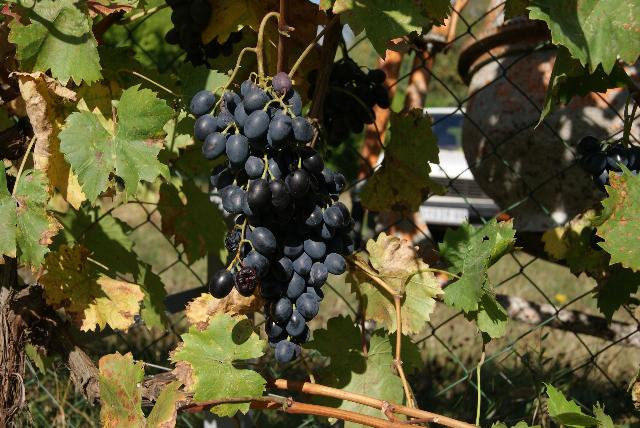grapes: (190, 72, 324, 298), (258, 168, 355, 364)
